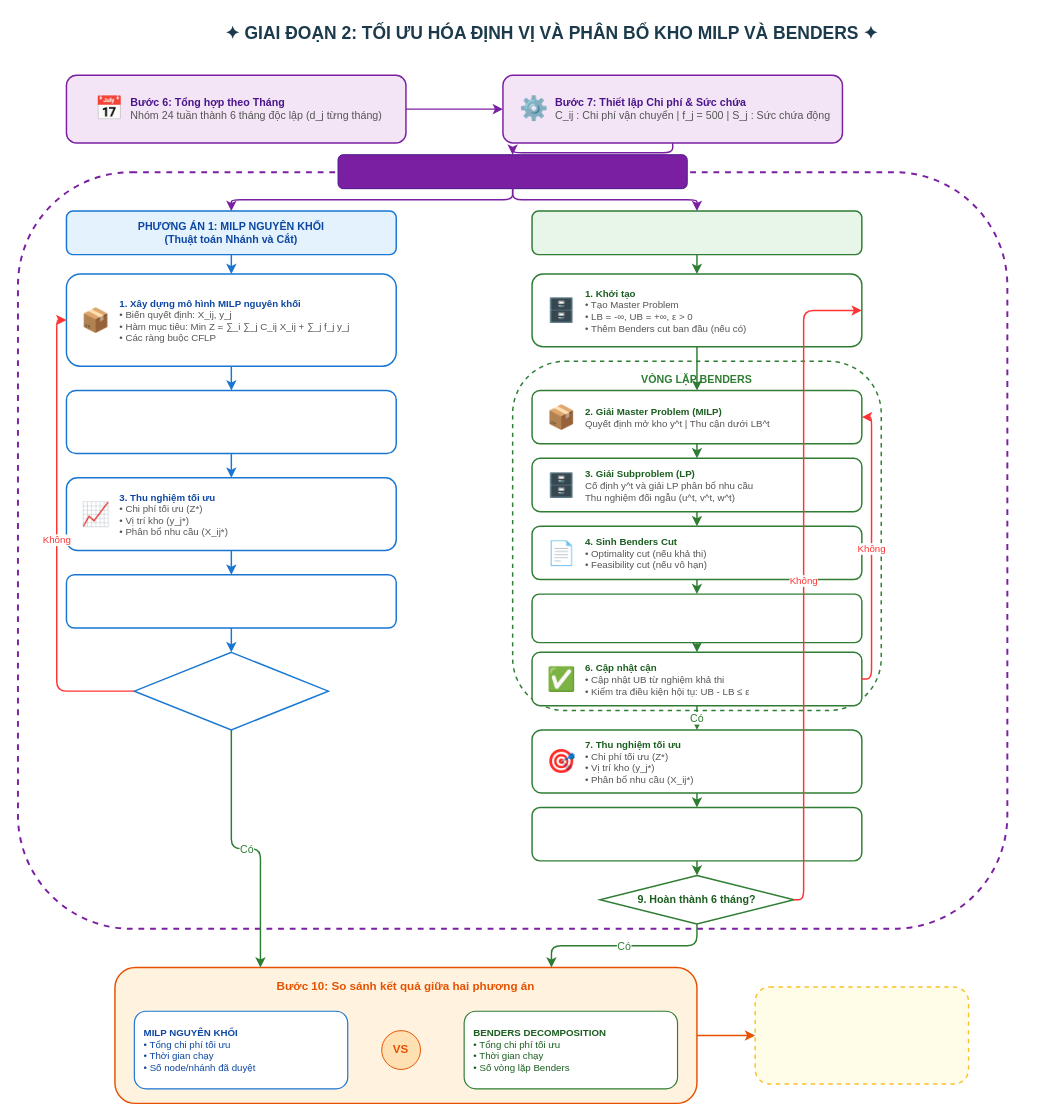
This 1052x1120 diagram has some shape labels left out. Each missing label, with the centre of its shape:
"5. Hoàn thành 6 tháng?" belongs at point 231,690.
"PHƯƠNG ÁN 2: BENDERS DECOMPOSITION" belongs at point 696,232.
"VÒNG LẶP ĐA THỜI KỲ (6 THÁNG DỰ BÁO)" belongs at point 512,171.
"⏱️ 4. Ghi nhận kết quả Lưu kết quả tháng hiện tại" belongs at point 231,601.
"✂️ 5. Thêm Benders Cut vào Master Bổ sung ràng buộc cắt vào Master" belongs at point 696,618.
"🌳 2. Giải bài toán MILP Sử dụng thuật toán nhánh và cắt (Branch-and-Cut)" belongs at point 231,421.
"🏆 Kết quả chọn phương án tốt nhất" belongs at point 861,1035.
"📋 8. Ghi nhận kết quả Lưu kết quả tháng hiện tại" belongs at point 696,833.
